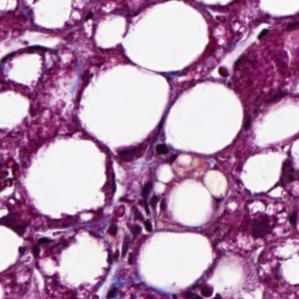inflammation: (237, 201, 293, 247), (117, 189, 167, 233)
